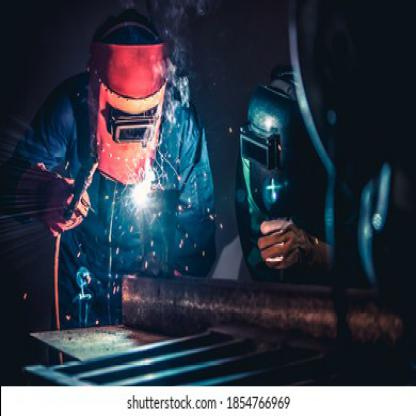with_gloves: (12, 164, 92, 236), (258, 216, 334, 271)
